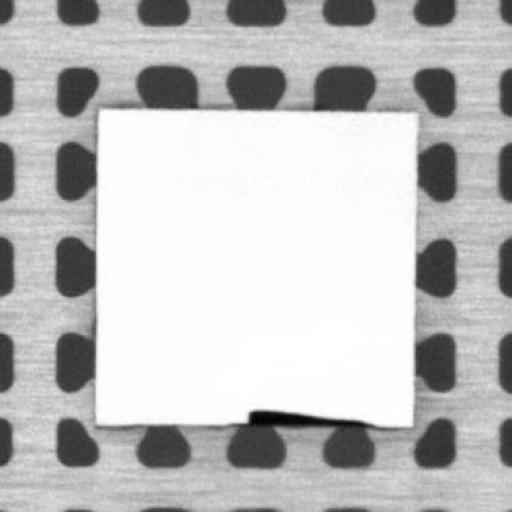DIE_BROKEN: (244, 406, 379, 430)
